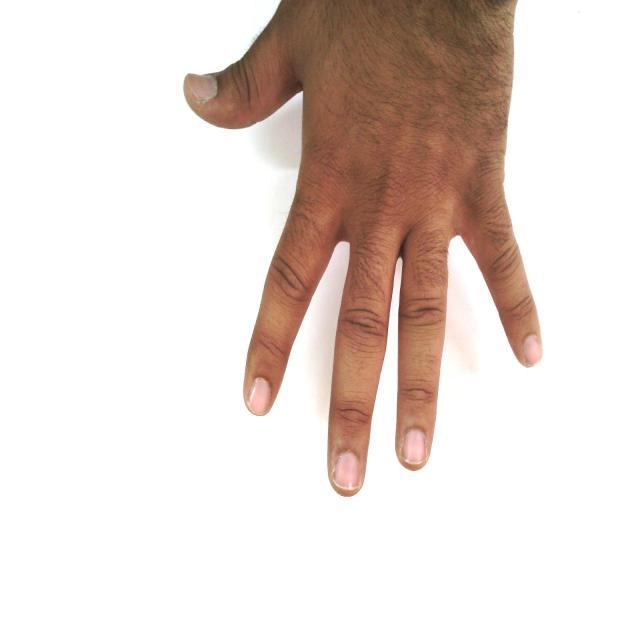Fingernail: (335, 452, 360, 489), (186, 75, 216, 102), (403, 429, 425, 462), (250, 378, 270, 412), (524, 336, 541, 365)
